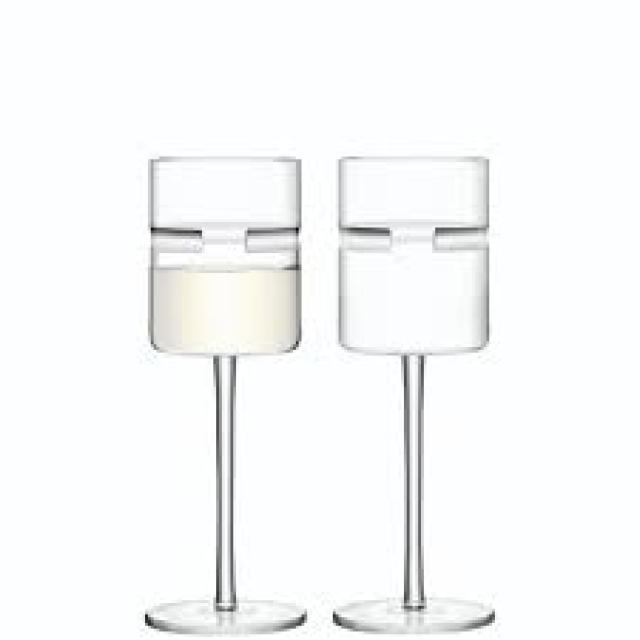Glass: (146, 154, 310, 629), (334, 154, 496, 631)
